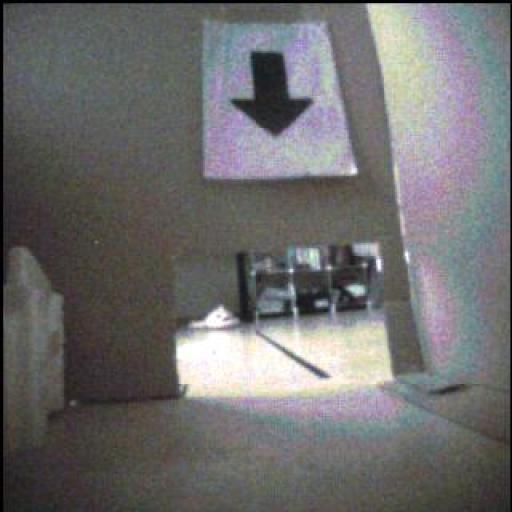arrow: (233, 54, 313, 137)
